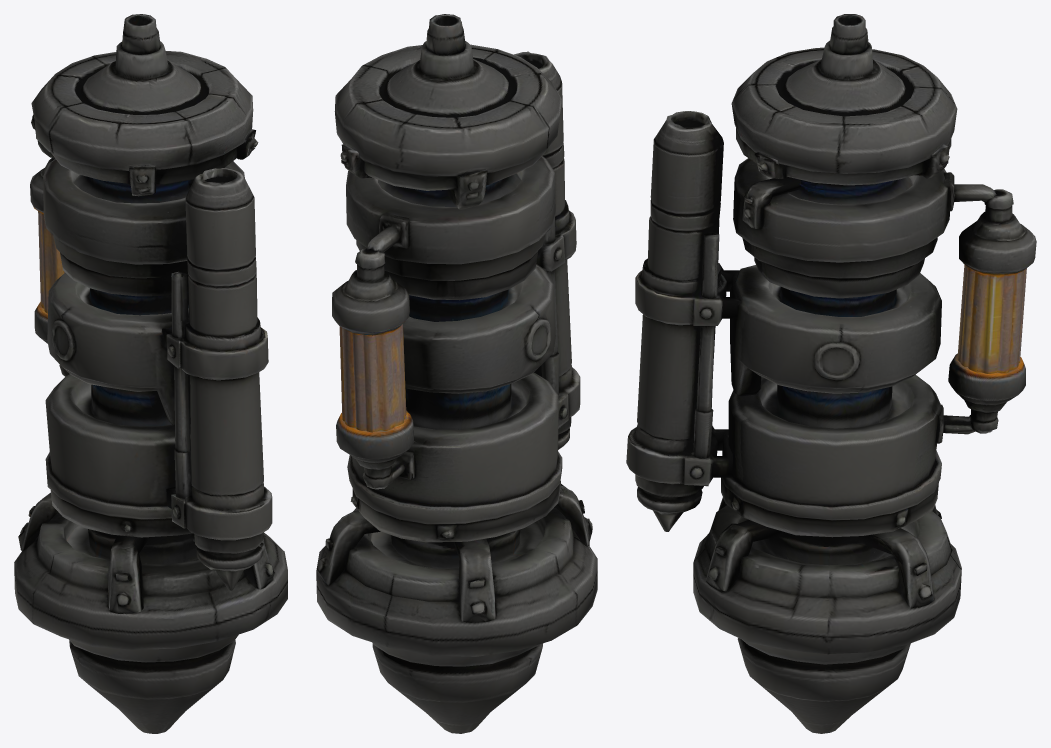
Rendered from mortar-column.glb.
The picture shows the model from 3 angles, left to right: view 1: azimuth 30°, elevation 25°; view 2: azimuth 150°, elevation 25°; view 3: azimuth 270°, elevation 25°; orthographic projection. The views are drawn at different scales.
Visible parts, largest first — view 1: tripo_node_3ee426bc-730a-48e9-8172-3463092cd48b; view 2: tripo_node_3ee426bc-730a-48e9-8172-3463092cd48b; view 3: tripo_node_3ee426bc-730a-48e9-8172-3463092cd48b.
Boxes of the visible parts, x1=… form: tripo_node_3ee426bc-730a-48e9-8172-3463092cd48b: x1=14, y1=14, x2=287, y2=733; tripo_node_3ee426bc-730a-48e9-8172-3463092cd48b: x1=316, y1=14, x2=597, y2=733; tripo_node_3ee426bc-730a-48e9-8172-3463092cd48b: x1=626, y1=14, x2=1036, y2=733.
Size of the model in its own units: 0.3535 by 0.998 by 0.5254.
1 material, 1 textured.
